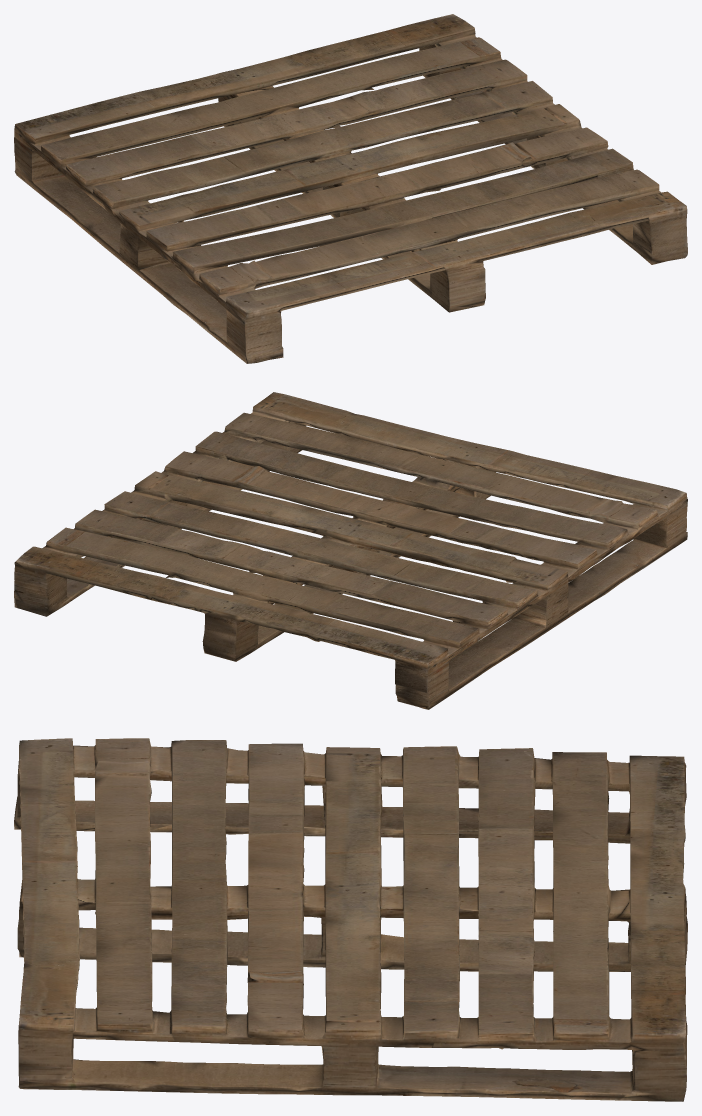
3 views of the same model, one above another, from view 1: azimuth 30°, elevation 25°; view 2: azimuth 150°, elevation 25°; view 3: azimuth 270°, elevation 25° (orthographic). The views are drawn at different scales.
Parts seen in each view (by area): view 1: vh1jeck_LOD0_TIER2_000; view 2: vh1jeck_LOD0_TIER2_000; view 3: vh1jeck_LOD0_TIER2_000.
Boxes of the visible parts, x1,y1,x2,y2 form: vh1jeck_LOD0_TIER2_000: (14,14,687,363); vh1jeck_LOD0_TIER2_000: (14,392,687,709); vh1jeck_LOD0_TIER2_000: (14,738,687,1101).
Size of the model in its own units: 1.24 by 0.1443 by 1.18.
1 material, 1 textured.
